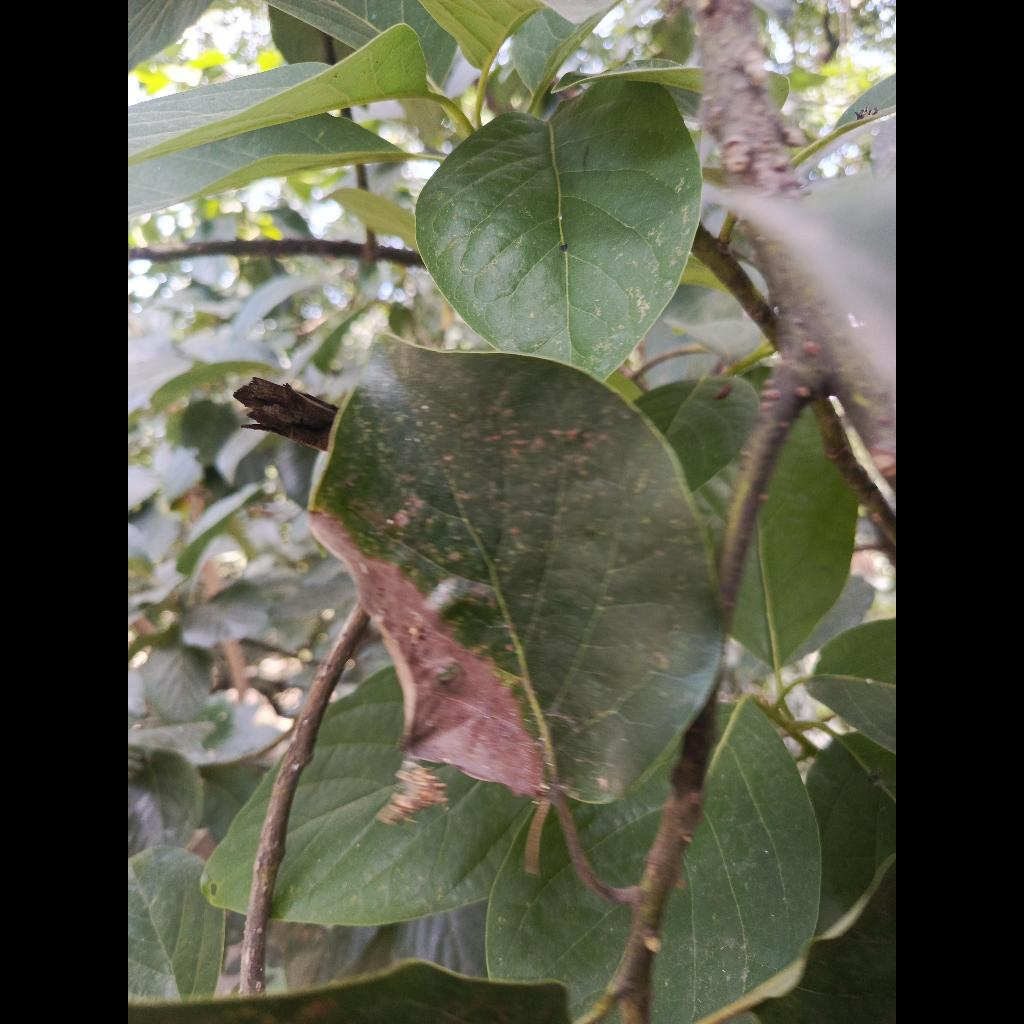Anthracnose: (310, 336, 722, 802)
